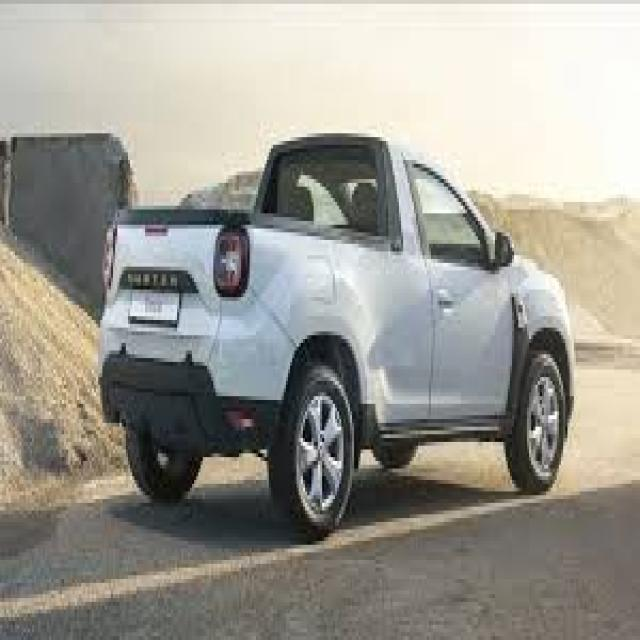Pickup Trucks: (103, 133, 578, 545)
